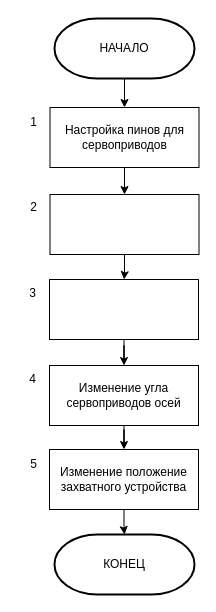
The diagram is 216 pixels wide and 612 high, and some of its shapes have lost their labels. The box of each missing label's shape, as (x1, y1, x2, y2) in pixels:
Обработка изменения координат сервоприводов осей по таймеру: (48, 278, 198, 340)
Прием данных по интерфейсу I2C: (49, 194, 199, 254)
